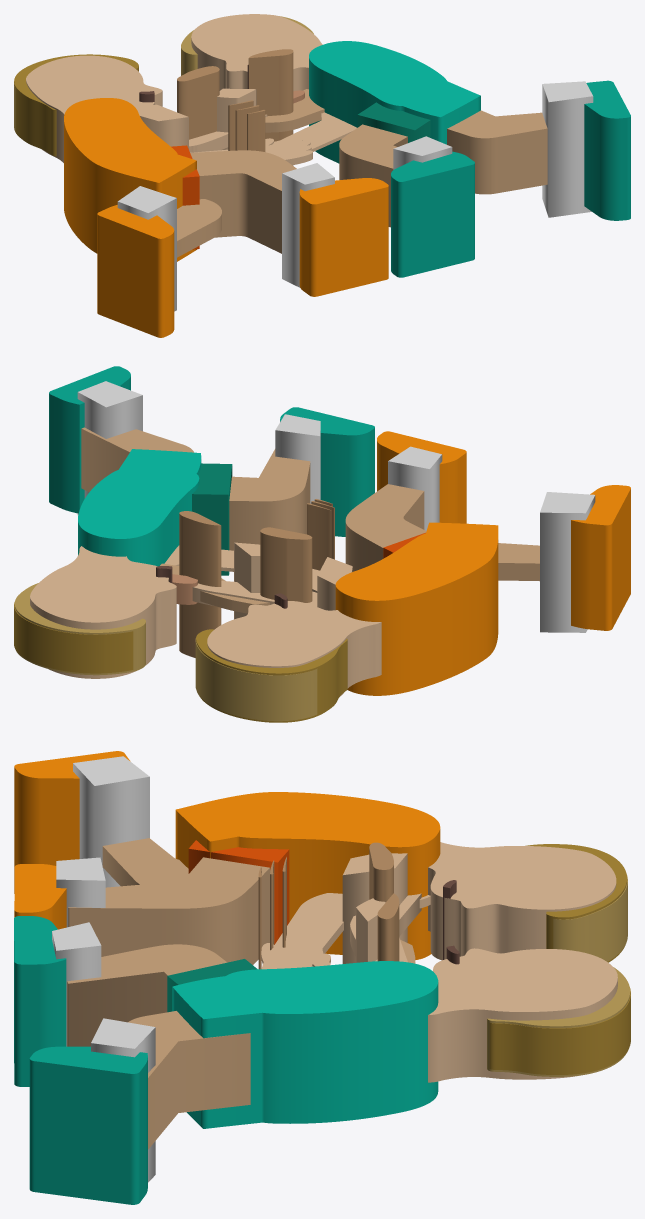
The model's file is emoji_u1f93c_1f3fc_200d_2642.glb.
The picture shows the model from 3 angles, top to bottom: view 1: azimuth 30°, elevation 25°; view 2: azimuth 150°, elevation 25°; view 3: azimuth 270°, elevation 25°; orthographic projection. The views are drawn at different scales.
Parts seen in each view (by area): view 1: emoji_u1f93c_1f3fc_200d_2642; view 2: emoji_u1f93c_1f3fc_200d_2642; view 3: emoji_u1f93c_1f3fc_200d_2642.
Boxes of the visible parts, bbox=[...] form: emoji_u1f93c_1f3fc_200d_2642: bbox=[14, 14, 630, 337]; emoji_u1f93c_1f3fc_200d_2642: bbox=[14, 366, 630, 722]; emoji_u1f93c_1f3fc_200d_2642: bbox=[14, 751, 630, 1204].
Size of the model in its own units: 0.033 by 0.008 by 0.0265.
